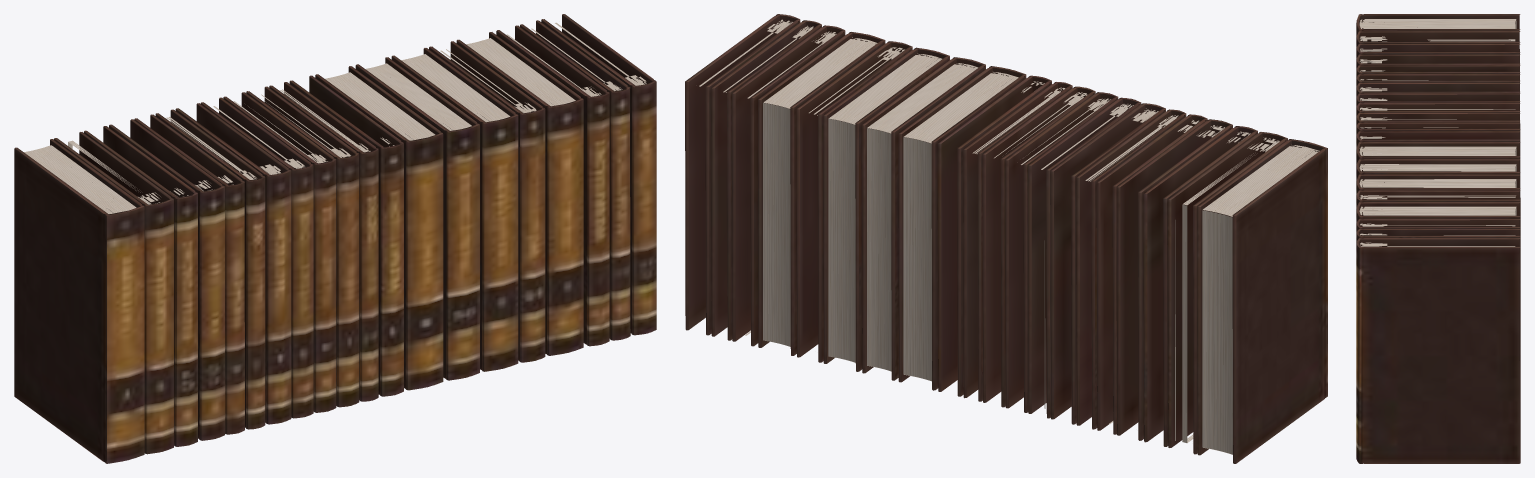
File: u_ph_book_encyclopedia_set_01.glb
3 renders of one model, left to right at view 1: azimuth 30°, elevation 25°; view 2: azimuth 150°, elevation 25°; view 3: azimuth 270°, elevation 25°, orthographic. The views are drawn at different scales.
Parts seen in each view (by area): view 1: book_encyclopedia_set_01_book01; view 2: book_encyclopedia_set_01_book01; view 3: book_encyclopedia_set_01_book01.
Boxes of the visible parts, x1,y1,x2,y2 form: book_encyclopedia_set_01_book01: (14,14,656,463); book_encyclopedia_set_01_book01: (685,14,1327,463); book_encyclopedia_set_01_book01: (1356,14,1520,463).
Bounding box in the file's own units: 0.5516 × 0.2374 × 0.1636.
2 materials, 2 textured.
